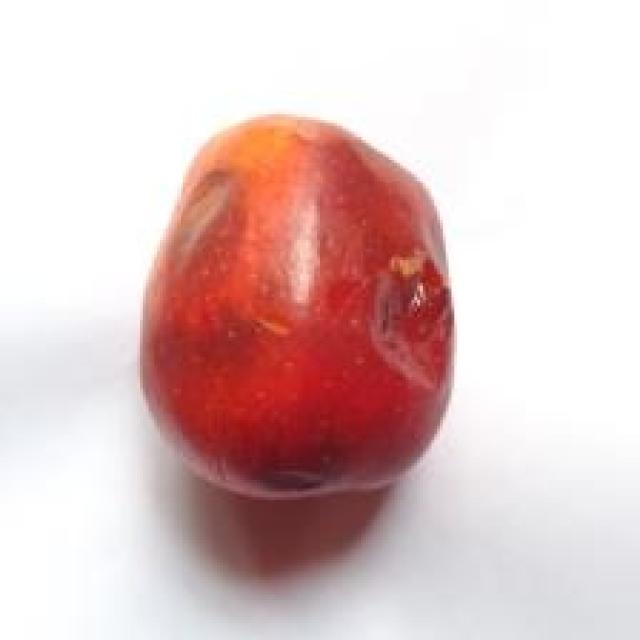rotten apple: (68, 70, 503, 605)
